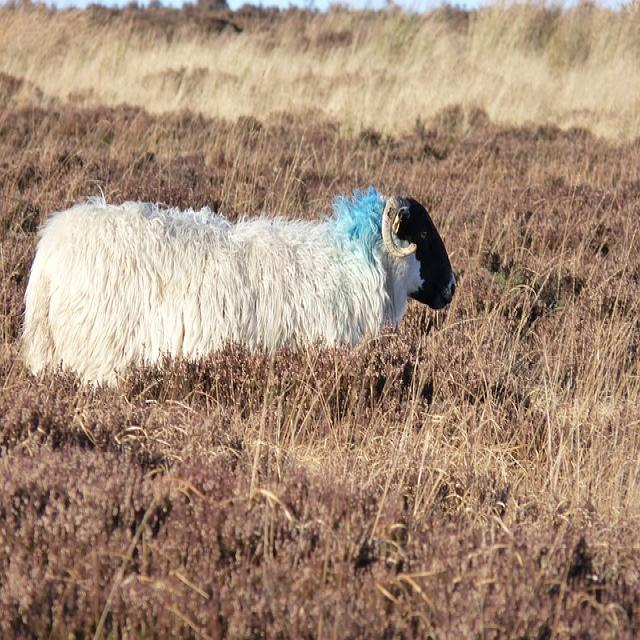goat: (24, 188, 456, 384)
